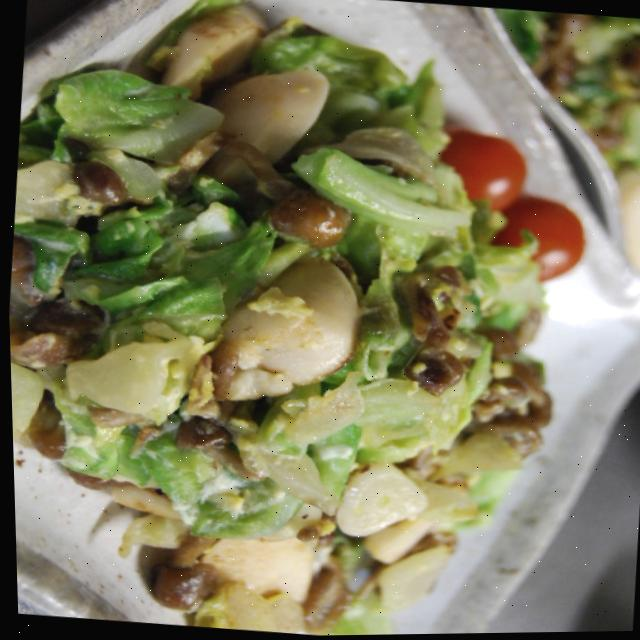蔬菜料理: (0, 0, 604, 640)
